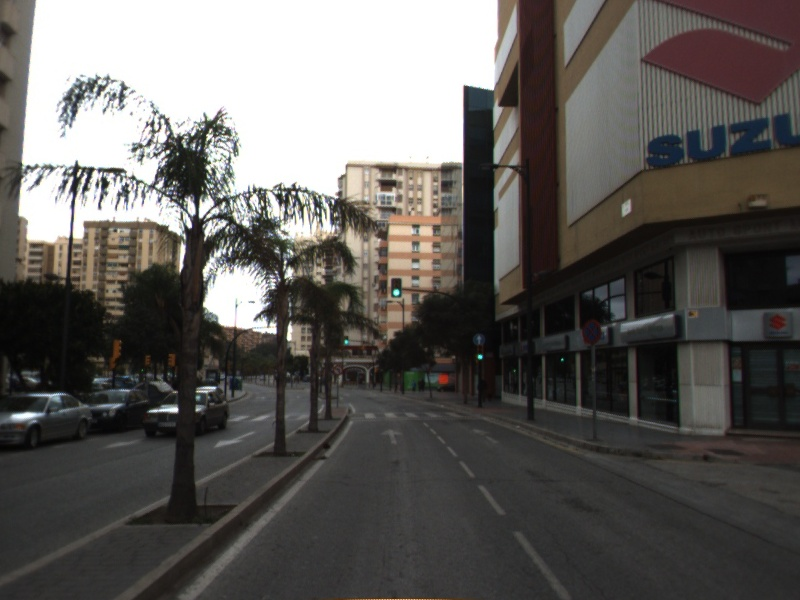STRAIGHT: (378, 426, 406, 447), (470, 427, 501, 445)
